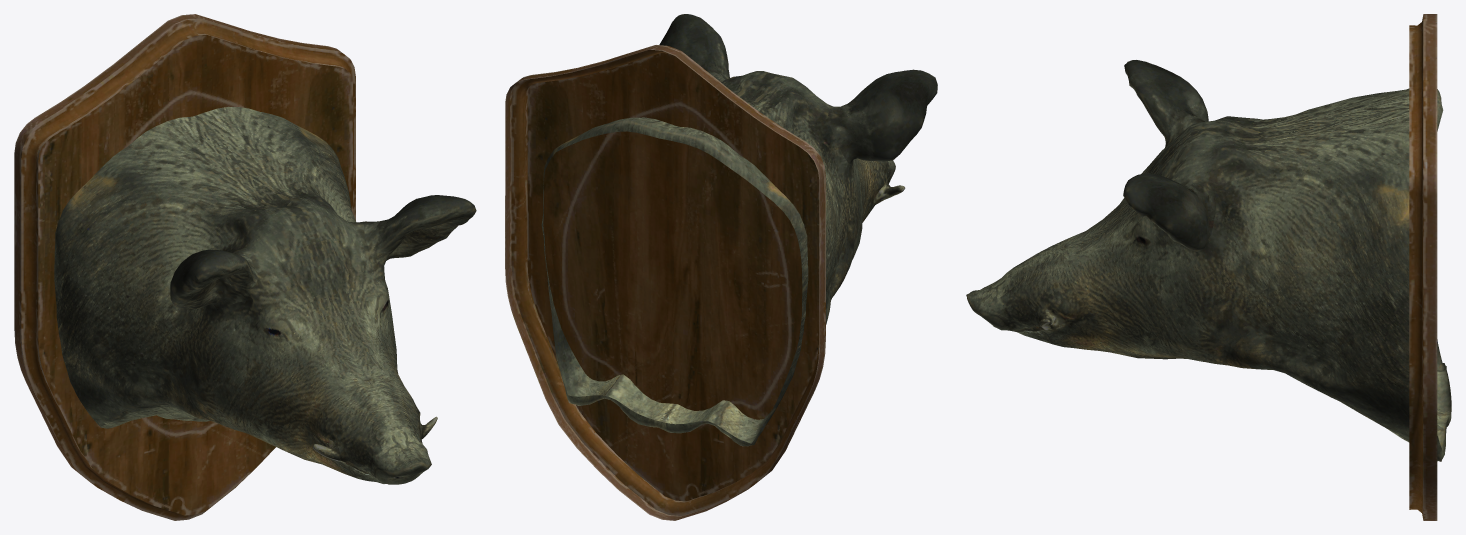
Rendered from Prop_WildBoar_Head.obj.
3 views of the same model, side by side, from view 1: azimuth 30°, elevation 25°; view 2: azimuth 150°, elevation 25°; view 3: azimuth 270°, elevation 25° (orthographic). The views are drawn at different scales.
Visible parts, largest first — view 1: Prop_WildBoar_Head_1, Prop_WildBoar_Head_0; view 2: Prop_WildBoar_Head_0, Prop_WildBoar_Head_1; view 3: Prop_WildBoar_Head_1, Prop_WildBoar_Head_0.
Boxes of the visible parts, <box> form: Prop_WildBoar_Head_1: <box>54,106,476,484</box>; Prop_WildBoar_Head_0: <box>14,14,355,520</box>; Prop_WildBoar_Head_0: <box>505,45,825,520</box>; Prop_WildBoar_Head_1: <box>541,14,937,446</box>; Prop_WildBoar_Head_1: <box>966,60,1451,461</box>; Prop_WildBoar_Head_0: <box>1409,14,1437,520</box>.
Size of the model in its own units: 1.01 by 1.43 by 1.27.
